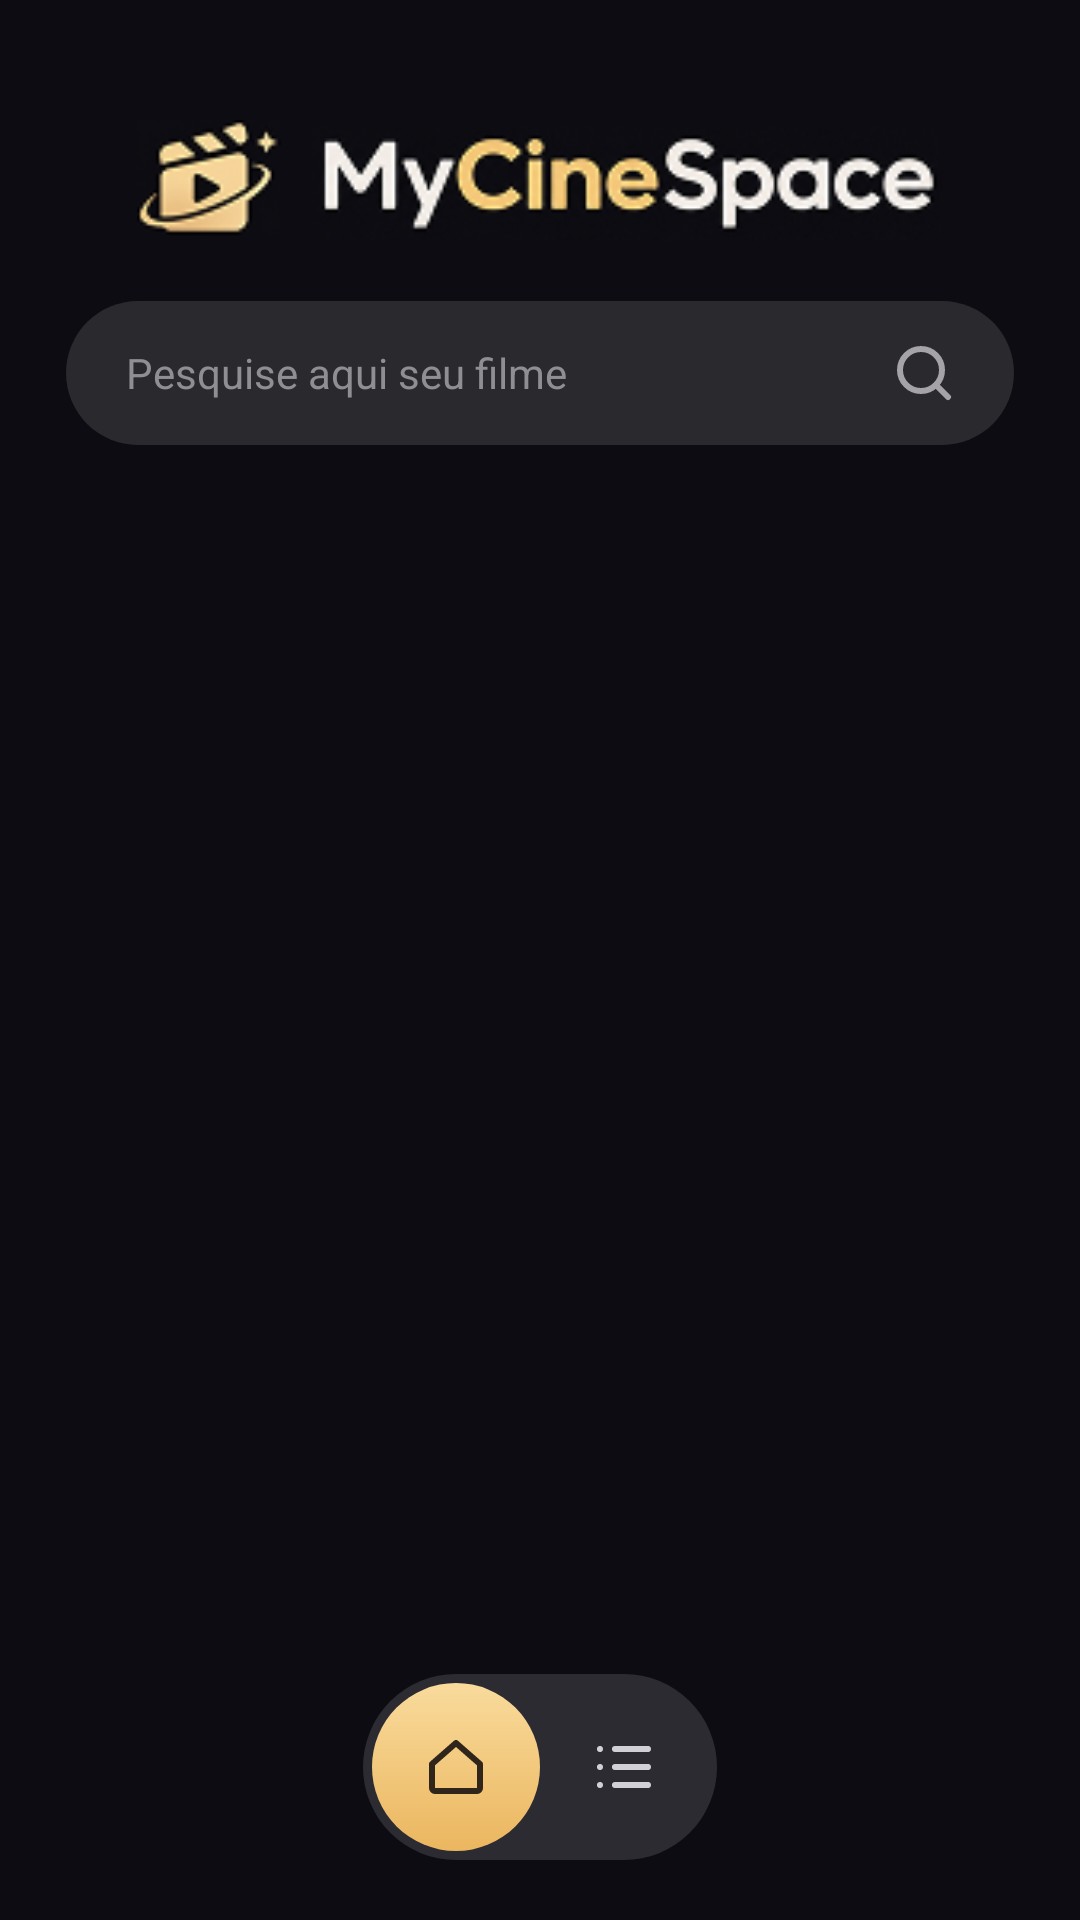

Icon click points for this 1080px×1920px phone screenshot, format point (x, y):
Início: point (456, 1767)
